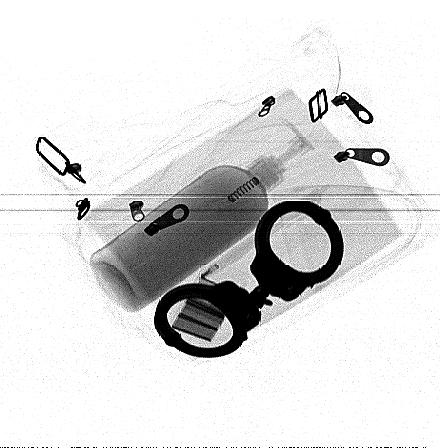HandCuffs: (154, 201, 344, 358)
